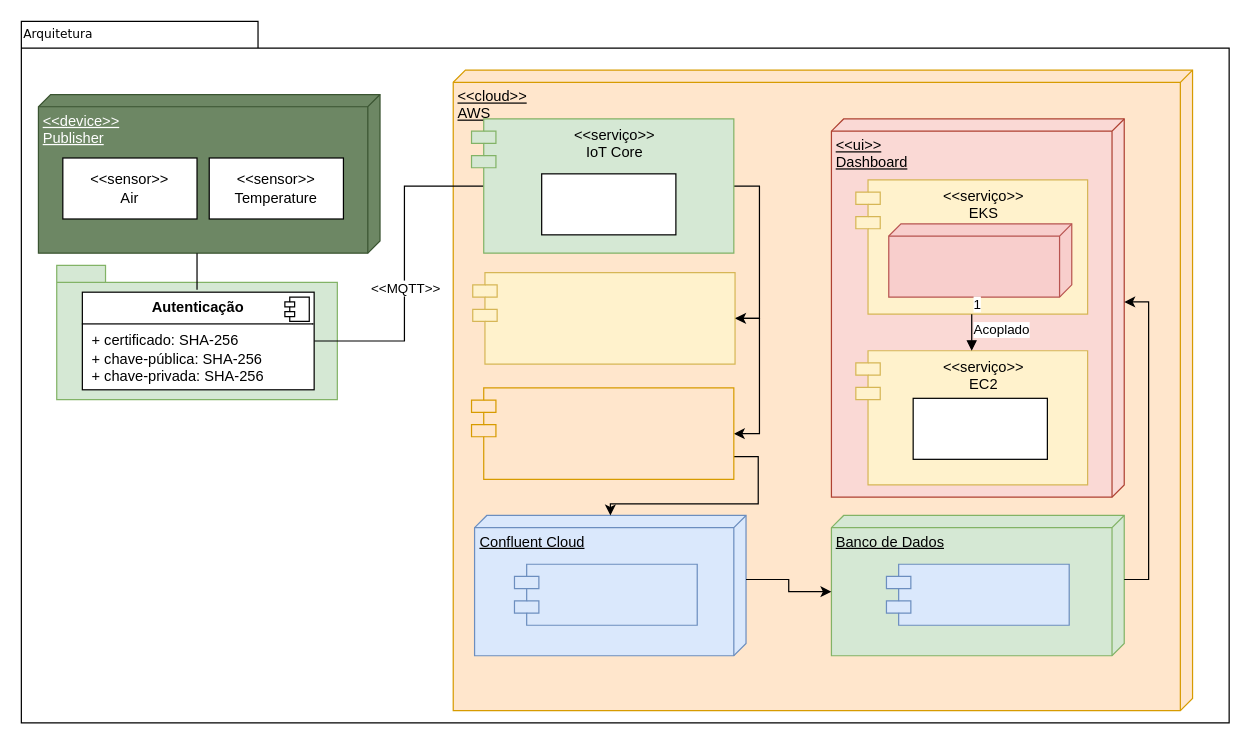
This 1251x744 diagram has some shape labels left out. Here are the shapes that lost their labels. From the top down, the centre of each, then its label:
At (608,204): "topic/region/+".
At (980,260): "Grafana + Prometheus".
At (603,317): "<<serviço>> SQS".
At (602,433): "<<serviço>> Lambda".
At (979,428): "T3.Medium".
At (605,594): "<<serviço>> Kafka".
At (977,594): "<<serviço>> Mongo".
